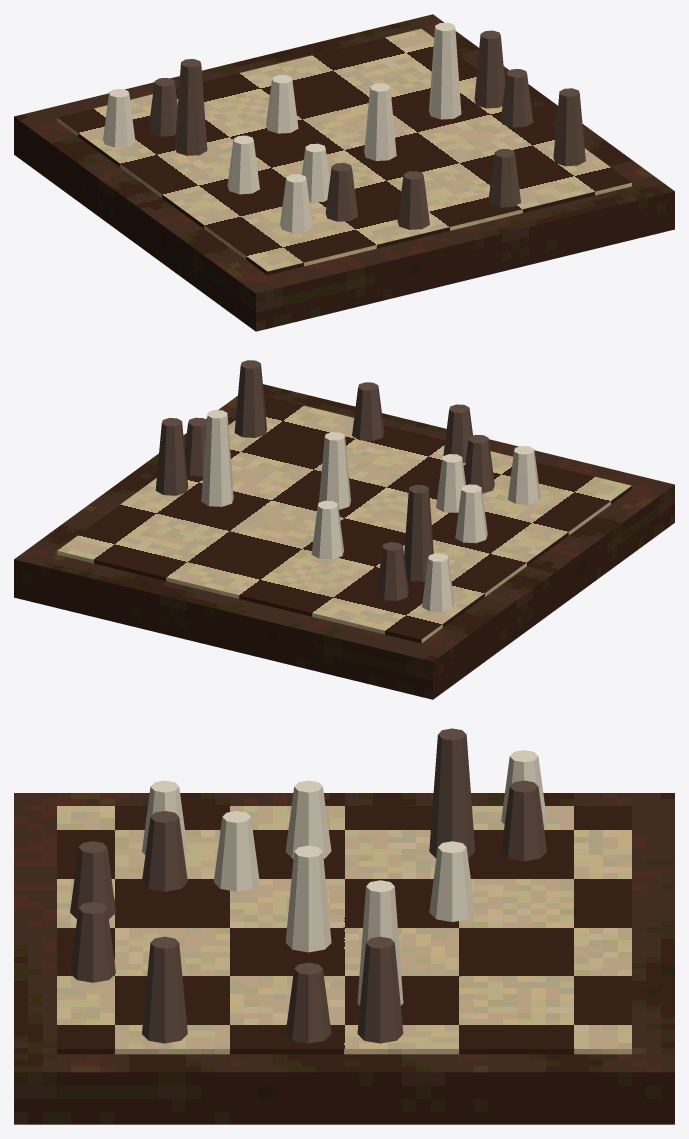
File: chess.glb
3 views of the same model, one above another, from view 1: azimuth 30°, elevation 25°; view 2: azimuth 150°, elevation 25°; view 3: azimuth 270°, elevation 25° (orthographic). The views are drawn at different scales.
Parts seen in each view (by area): view 1: chessboard, wood_dark, flat.001, flat; view 2: chessboard, wood_dark, flat.001, flat; view 3: chessboard, wood_dark, flat.001, flat.
Boxes of the visible parts, <box> form: chessboard: <box>57,28,631,275</box>; wood_dark: <box>14,14,674,331</box>; flat.001: <box>148,30,585,229</box>; flat: <box>103,22,461,232</box>; chessboard: <box>57,397,631,643</box>; wood_dark: <box>14,384,674,699</box>; flat.001: <box>155,360,494,600</box>; flat: <box>201,410,540,611</box>; chessboard: <box>57,806,631,1054</box>; wood_dark: <box>14,793,674,1124</box>; flat.001: <box>70,728,546,1043</box>; flat: <box>142,750,546,1005</box>.
Bounding box in the file's own units: 0.46 × 0.134 × 0.46.
4 materials, 2 textured.
